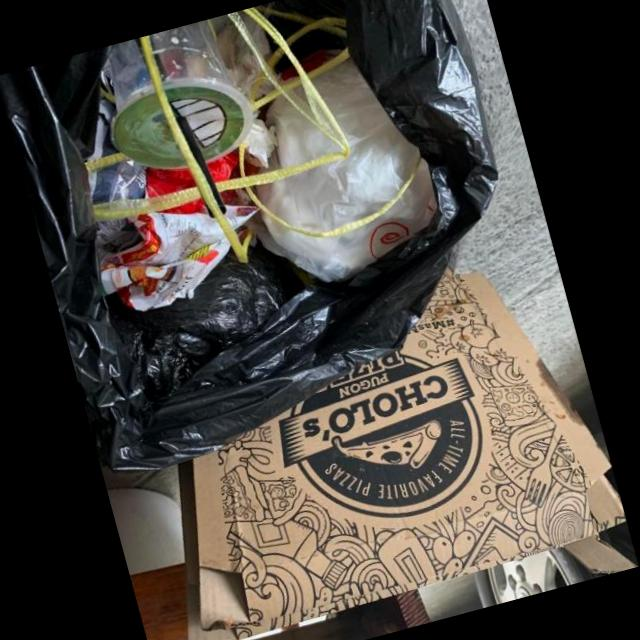bao_bi_thuc_pham: (98, 210, 230, 310), (224, 203, 259, 229)
carton: (178, 266, 638, 640)
tui_ni_long: (244, 56, 438, 281), (258, 94, 341, 172)
